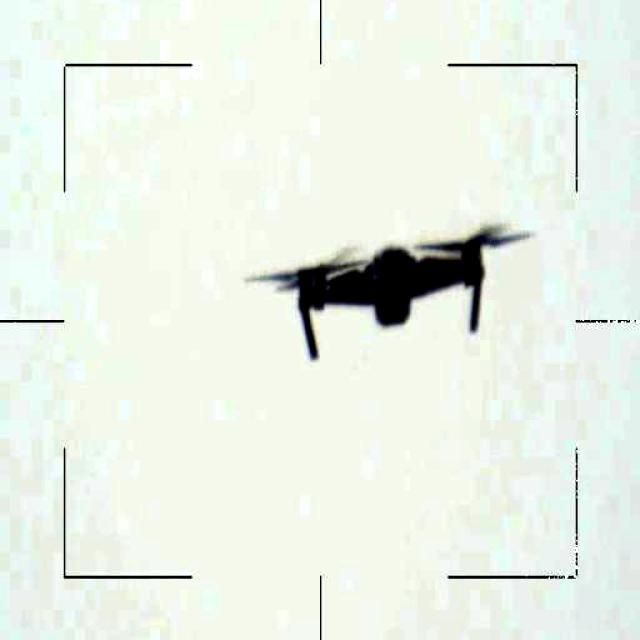bird: (250, 221, 532, 361)
